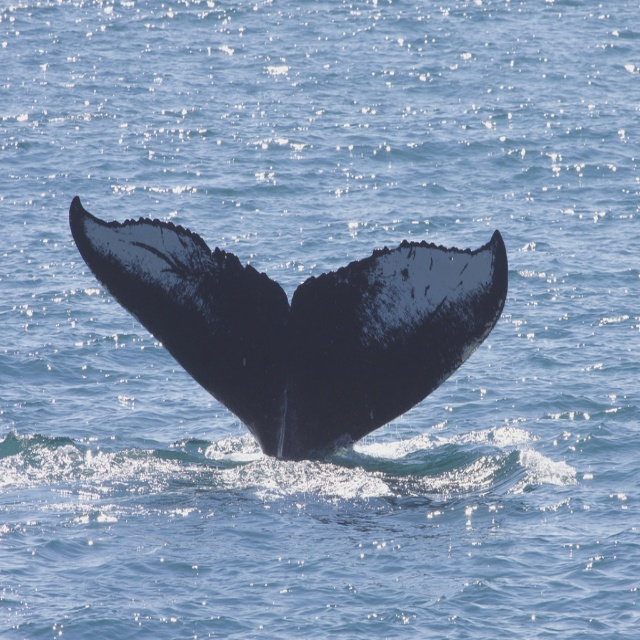Whale: (69, 196, 508, 462)
